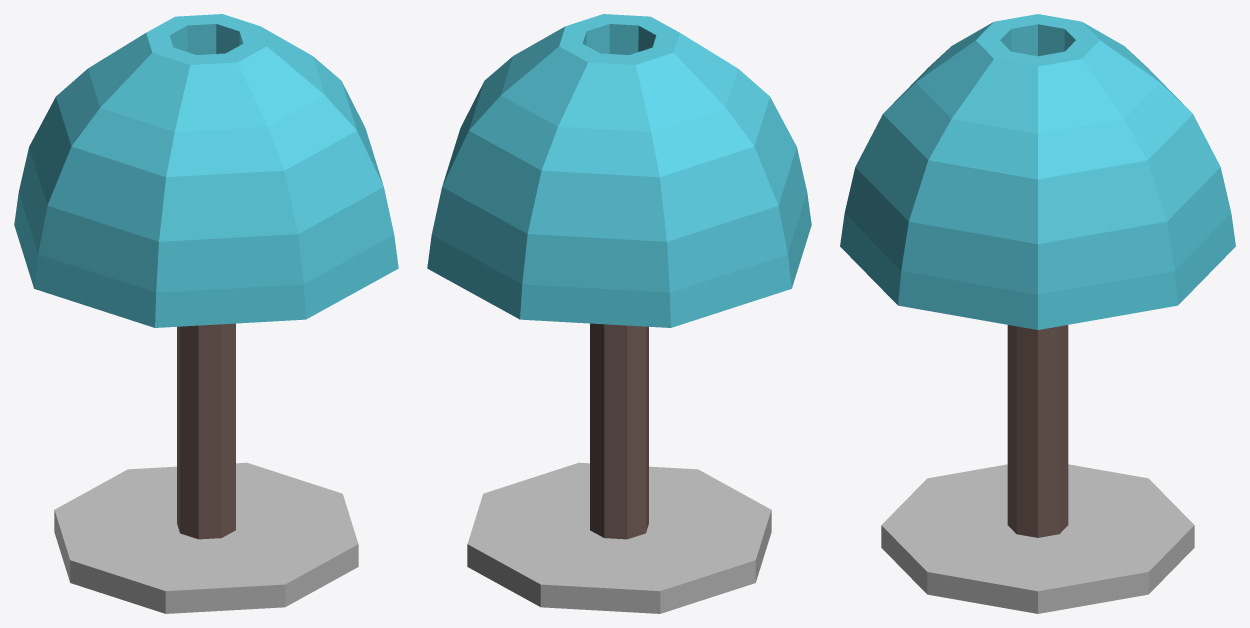
File: otras_cosas2.fbx
3 views of the same model, side by side, from view 1: azimuth 30°, elevation 25°; view 2: azimuth 150°, elevation 25°; view 3: azimuth 270°, elevation 25° (orthographic).
Parts seen in each view (by area): view 1: Velador2; view 2: Velador2; view 3: Velador2.
Boxes of the visible parts, x1=… form: Velador2: x1=14, y1=14, x2=398, y2=613; Velador2: x1=427, y1=14, x2=811, y2=613; Velador2: x1=840, y1=14, x2=1235, y2=613.
Size of the model in its own units: 0.597 by 0.8443 by 0.597.
